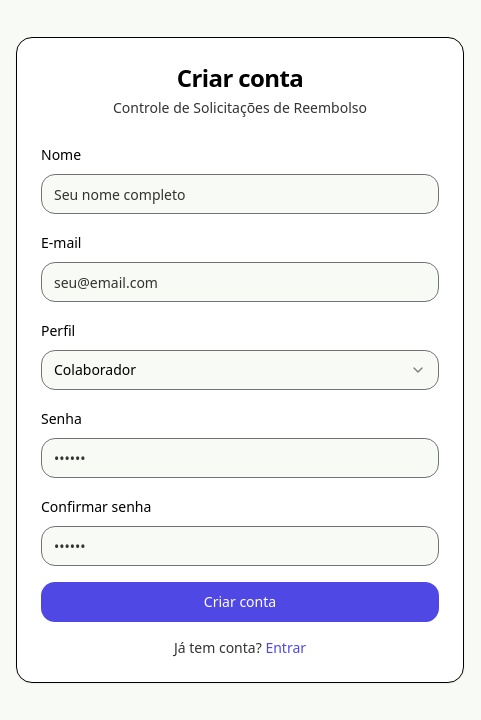
it: RegisterPage › shows validation error for invalid email
Type "Julia" into the field labelled "Nome" at (240, 194), box [41, 174, 439, 214]
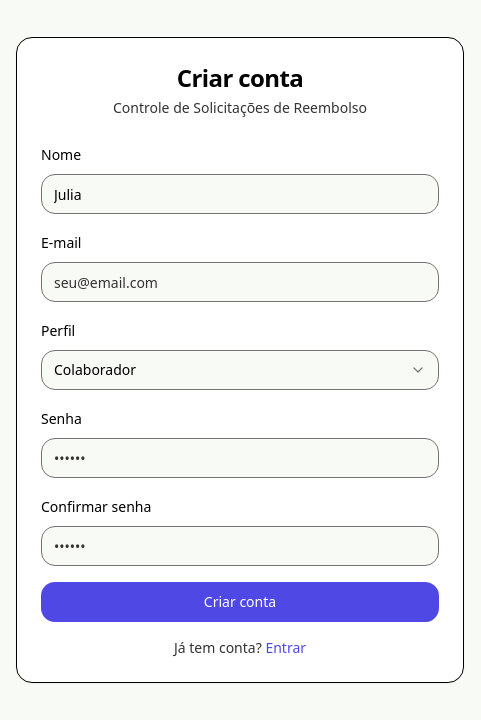
Type "nao-e-email" into the field labelled "E-mail" at (240, 282), box [41, 262, 439, 302]
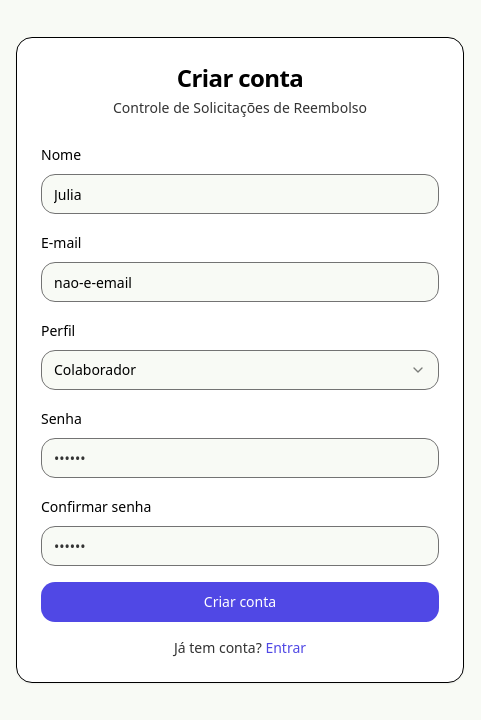
Click the button "Criar conta" at (240, 602), box [41, 582, 439, 622]
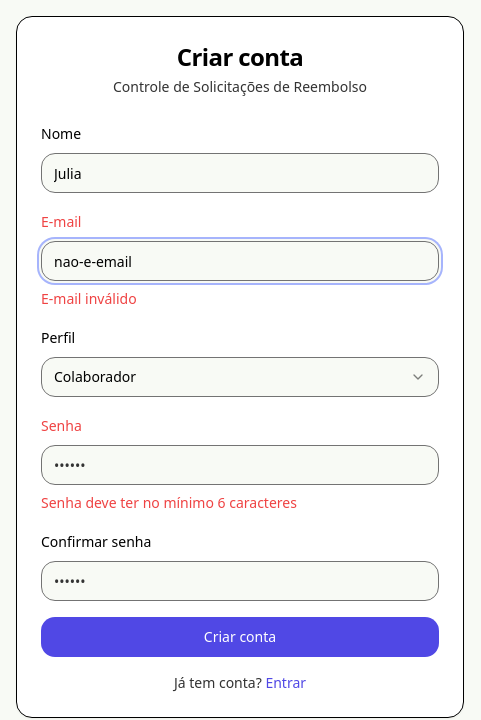
Expected: the text "E-mail inválido" is shown, [41, 289, 137, 308]
